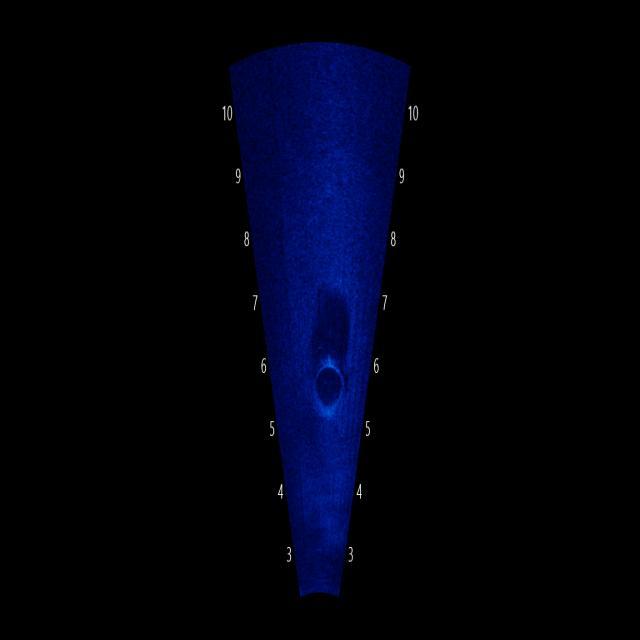circle: (298, 345, 360, 444)
